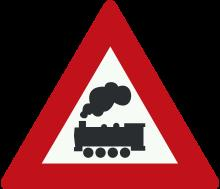Barrier Ahead: (4, 13, 218, 182)
